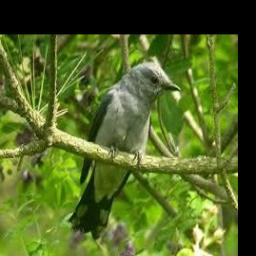Cuckoo: (69, 63, 181, 239)
